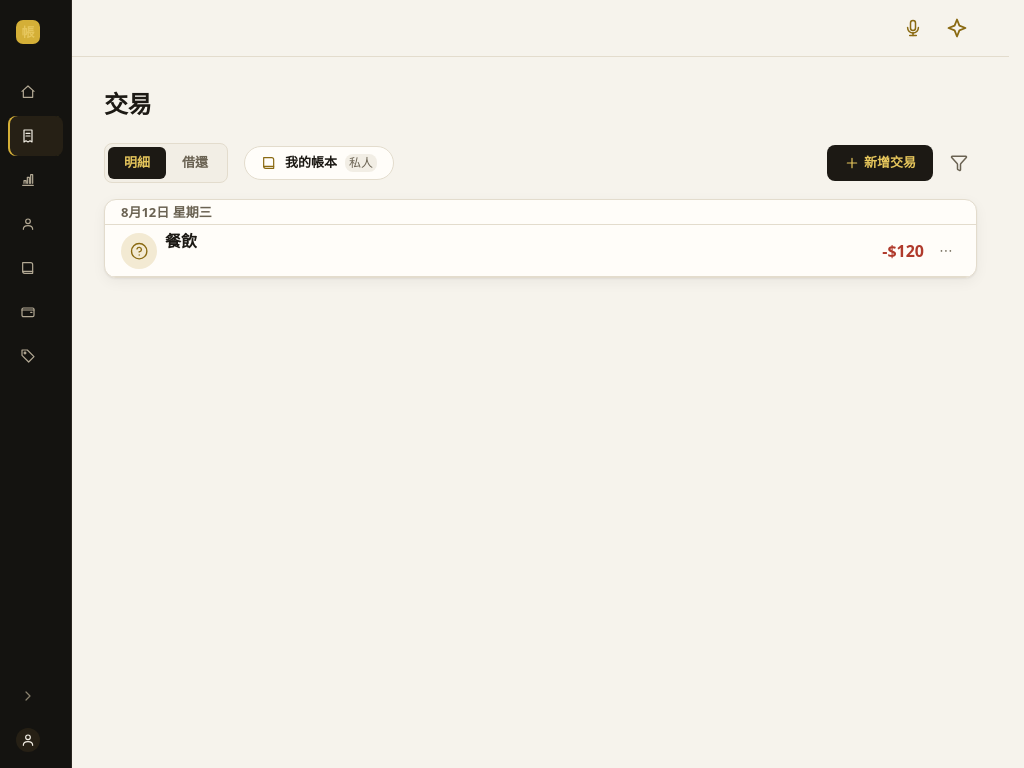
Editing and deleting a transaction › deletes a transaction after the confirmation
Click the button "餐飲": (181, 241) [165, 225, 804, 276]
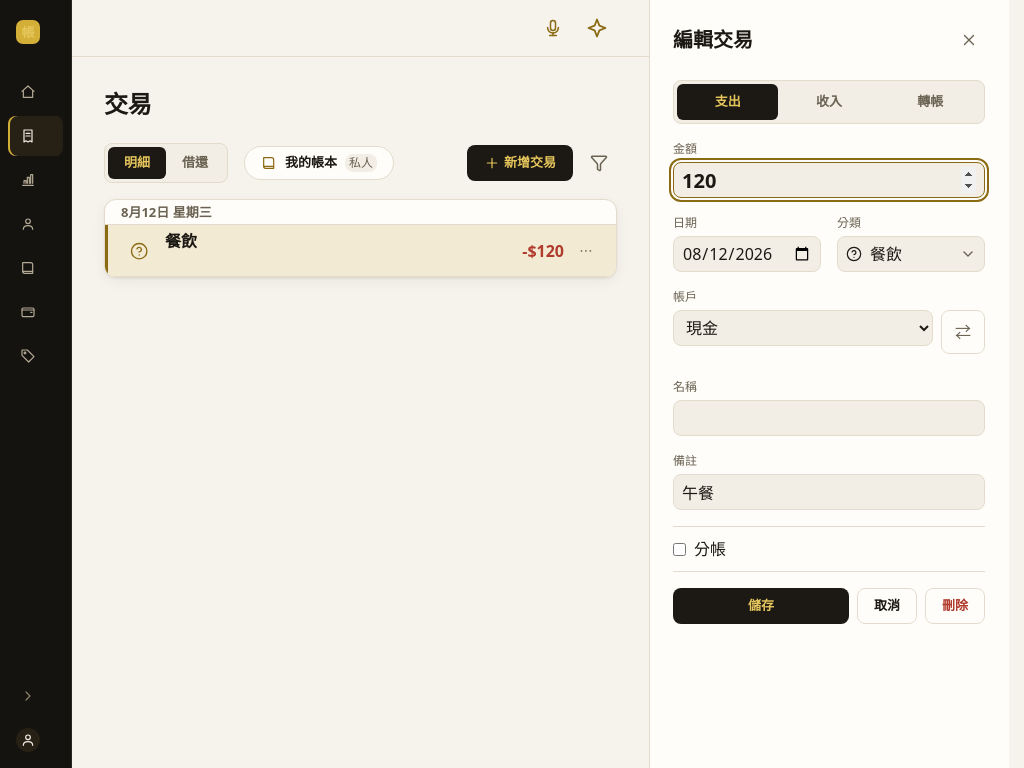
Click the button "刪除": (955, 606) [925, 588, 985, 624]
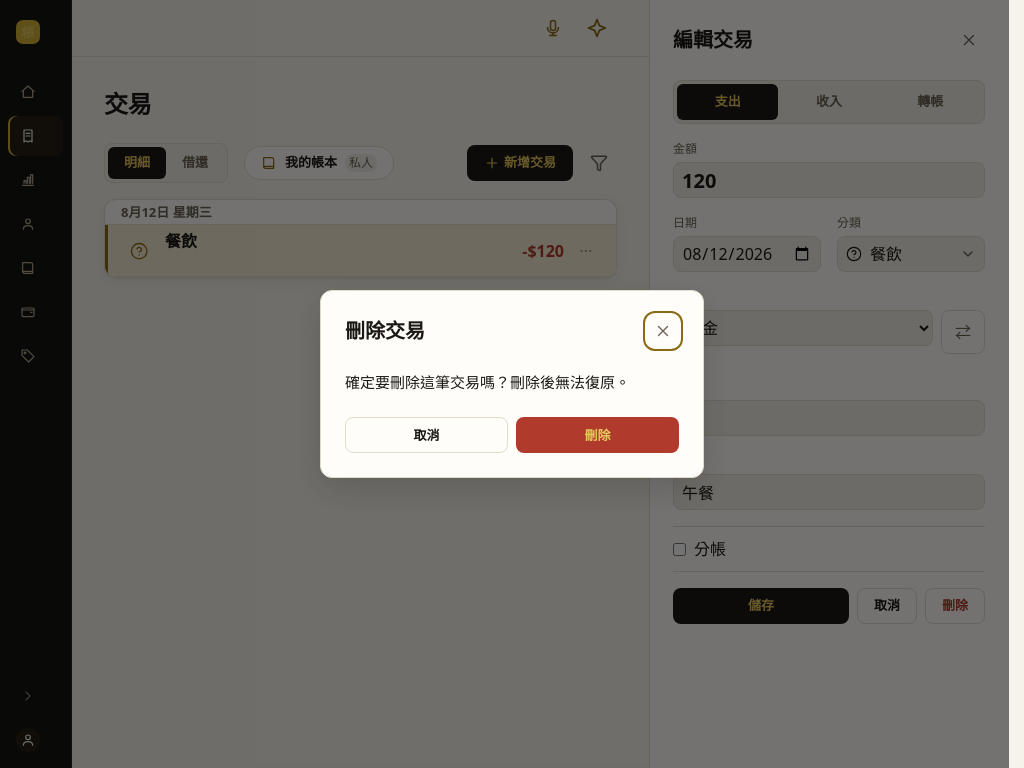
Expected: the text "確定要刪除這筆交易嗎？刪除後無法復原。" is shown, [345, 371, 679, 393]
Click the button "刪除": (598, 435) [516, 417, 679, 453]
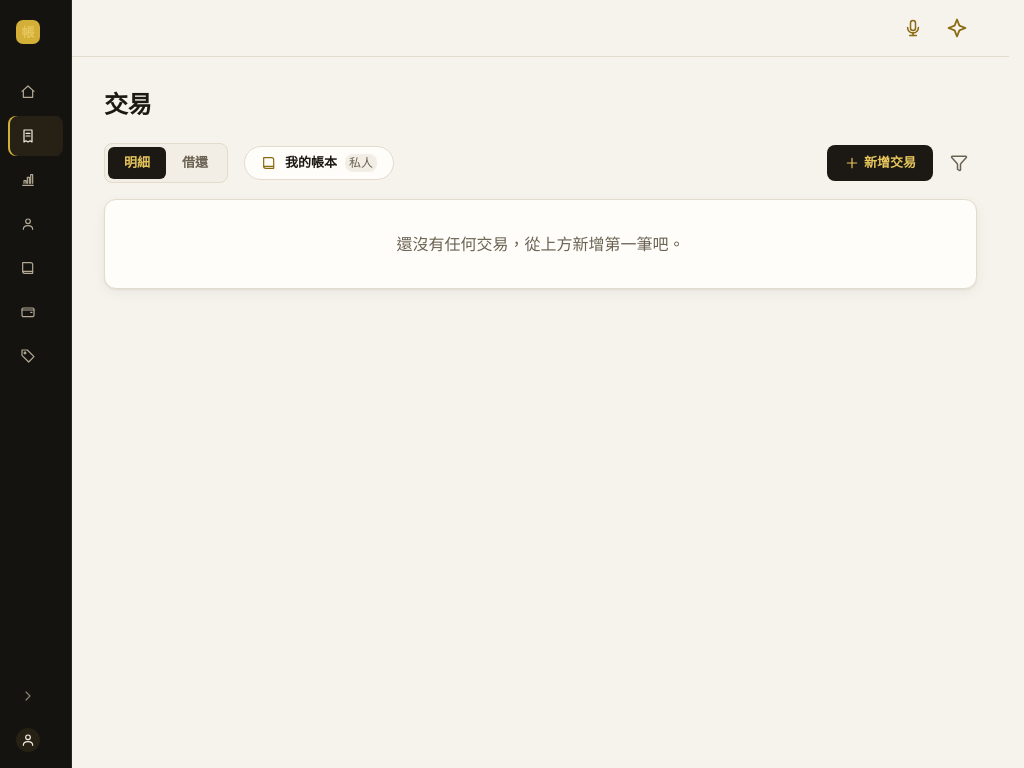
Expected: the text "還沒有任何交易，從上方新增第一筆吧。" is shown, [396, 233, 684, 255]
